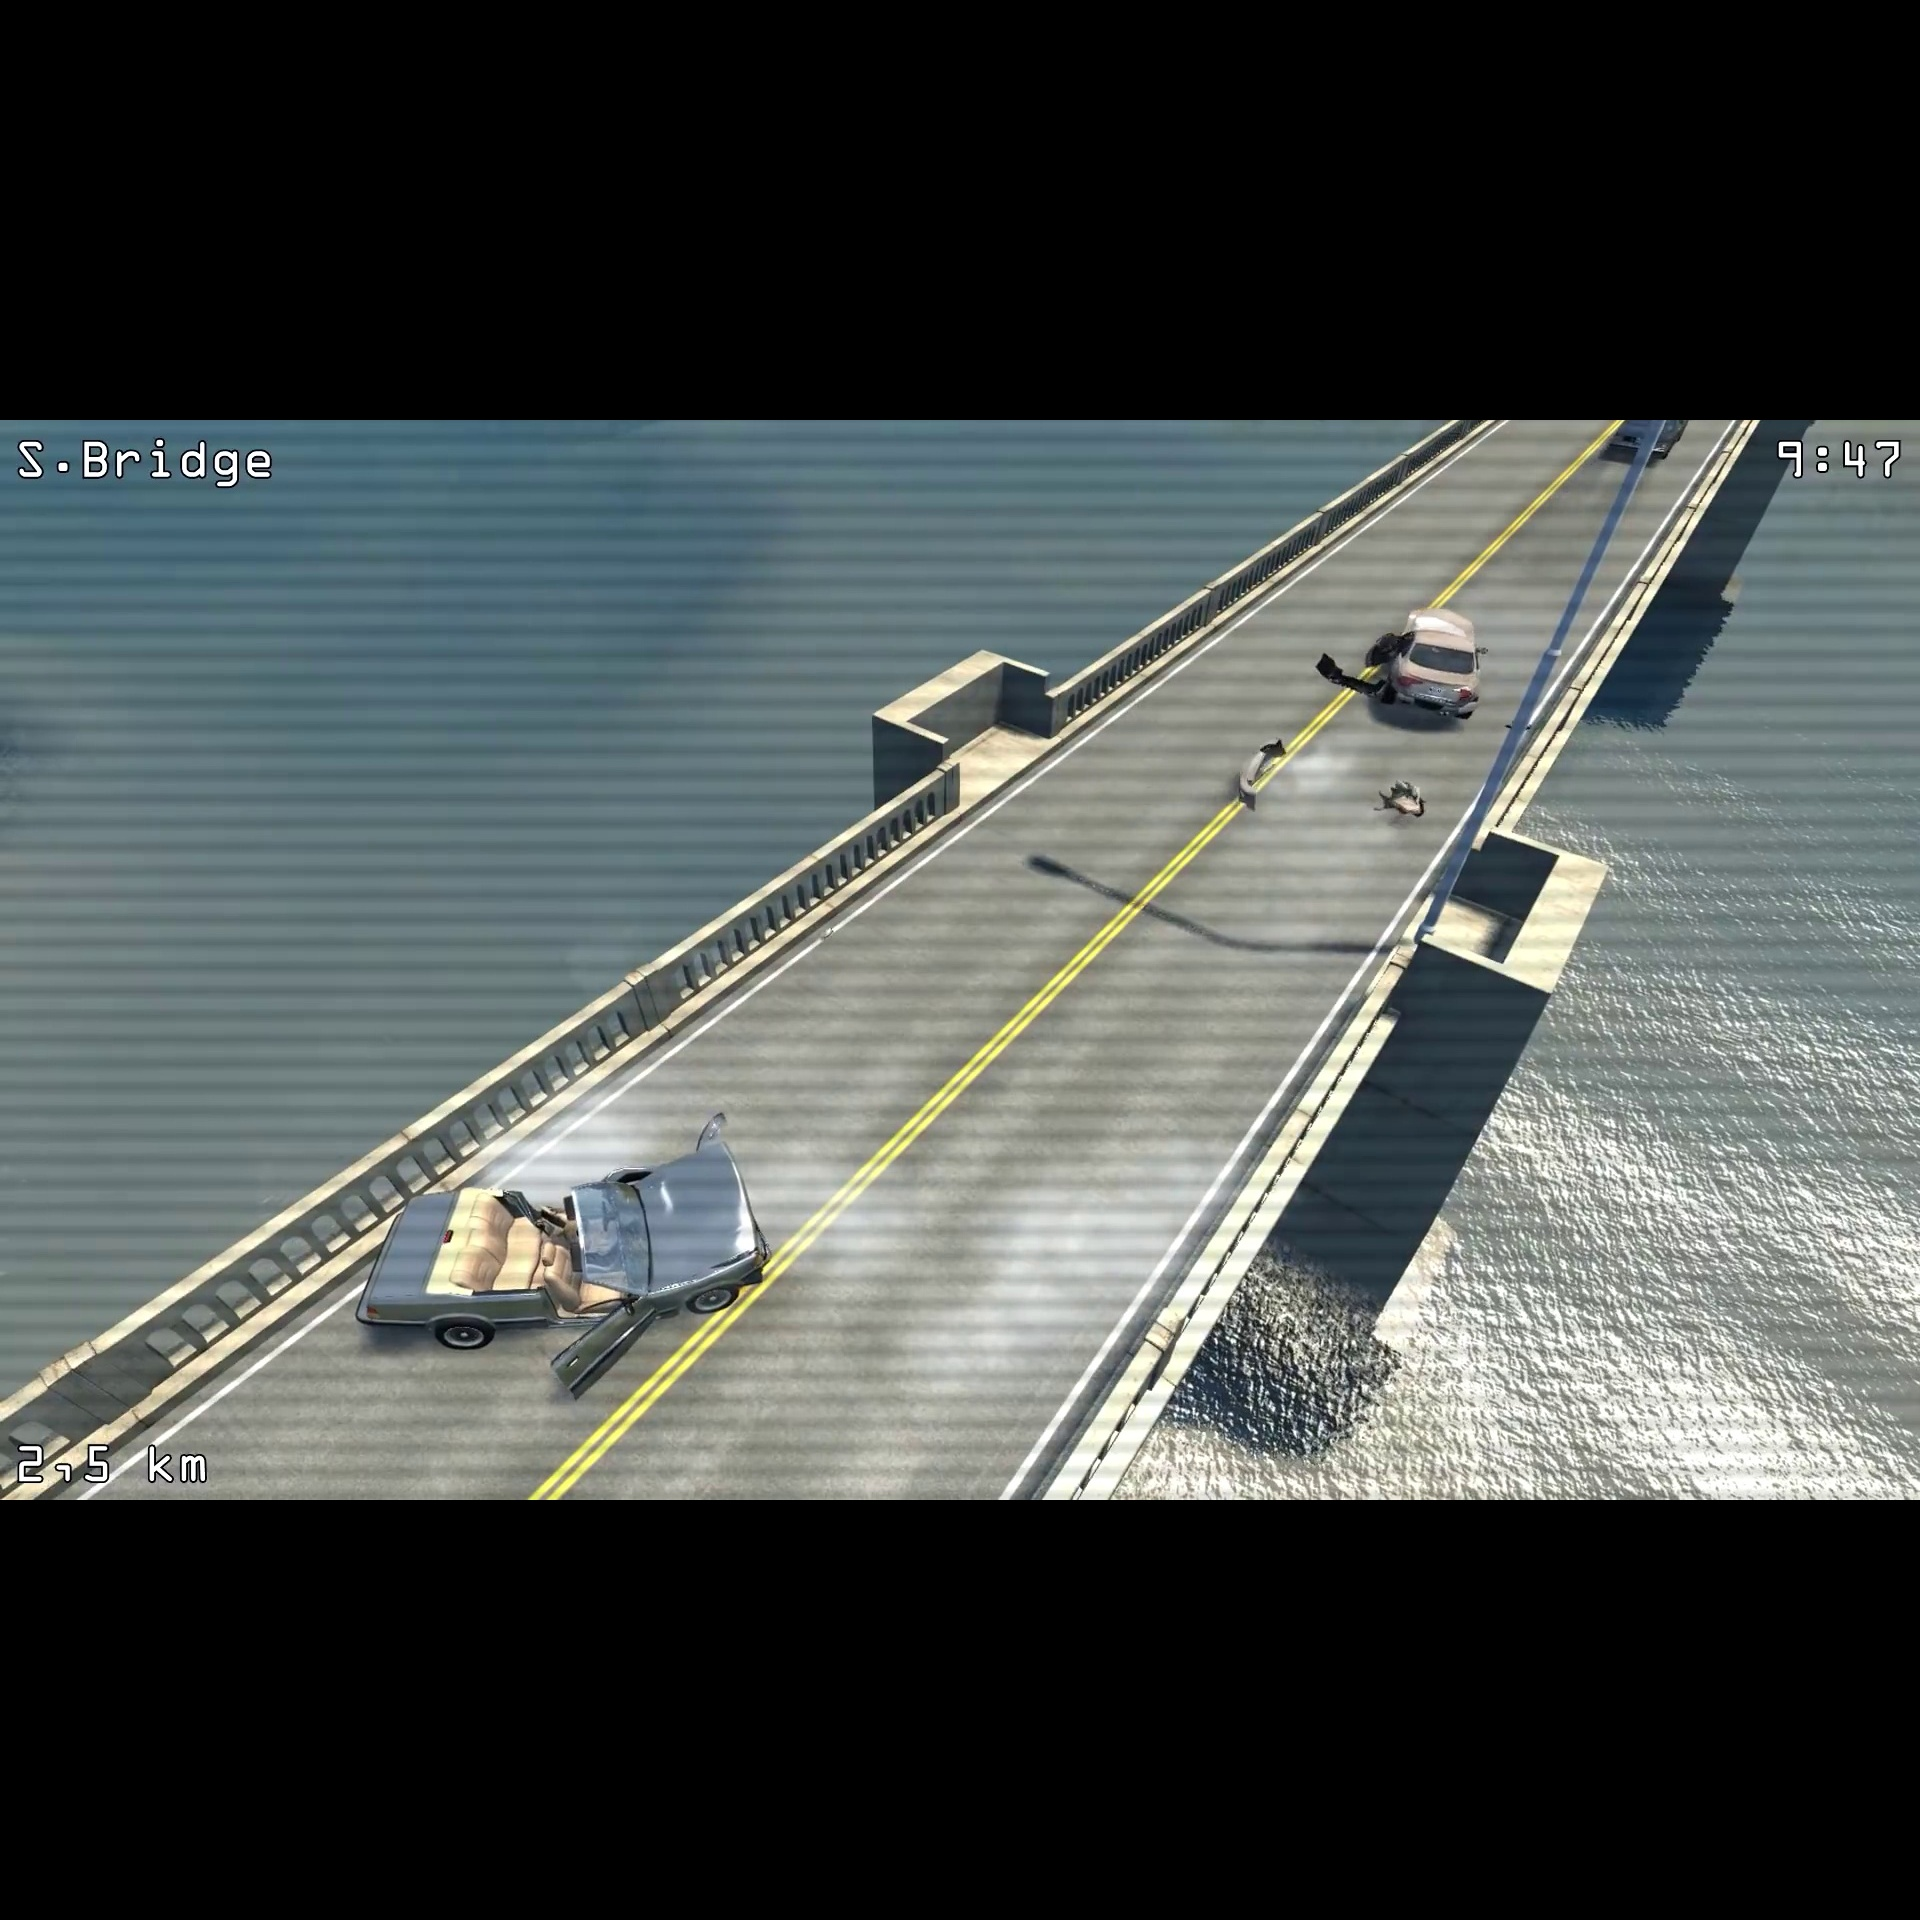vehicle: (345, 1132, 775, 1366), (1371, 589, 1498, 730)
